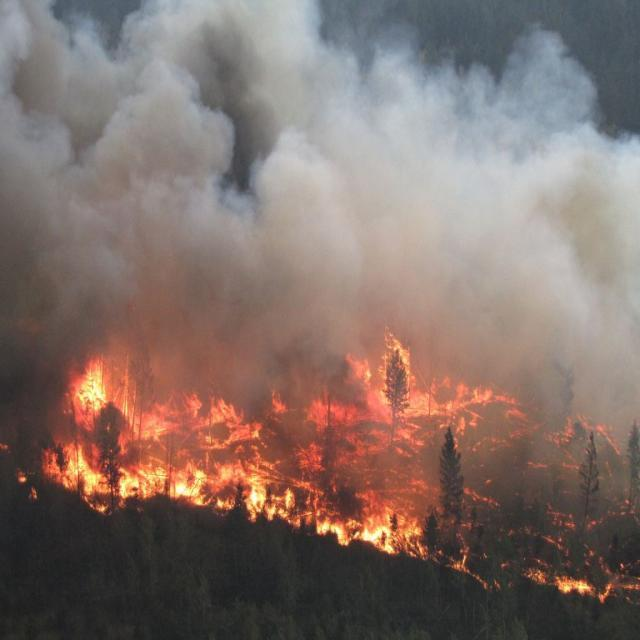Fire: (368, 348, 480, 450), (332, 493, 416, 569), (73, 341, 158, 416), (538, 556, 625, 626), (222, 457, 291, 514), (43, 445, 108, 501), (119, 458, 167, 501), (170, 462, 206, 505)
Smoke: (0, 3, 640, 254)
